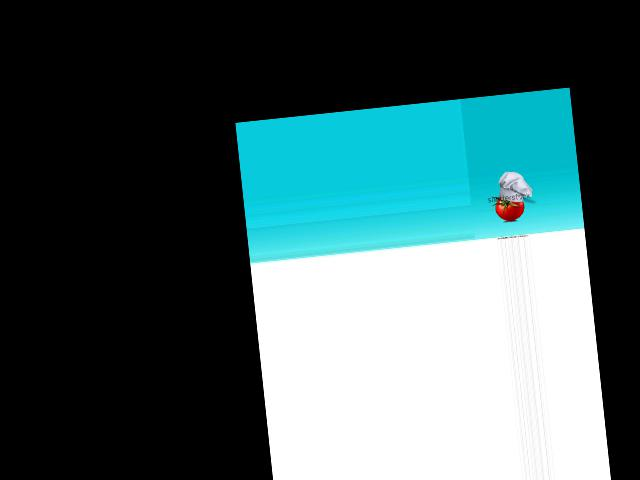tomato: (495, 194, 525, 221)
